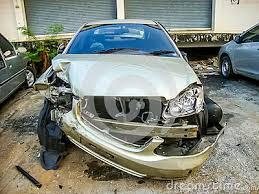Headlight-Damage: (170, 88, 209, 121), (40, 79, 76, 109)
bonnet-dent: (60, 50, 188, 97)
front-bumper-dent: (63, 124, 195, 176)
